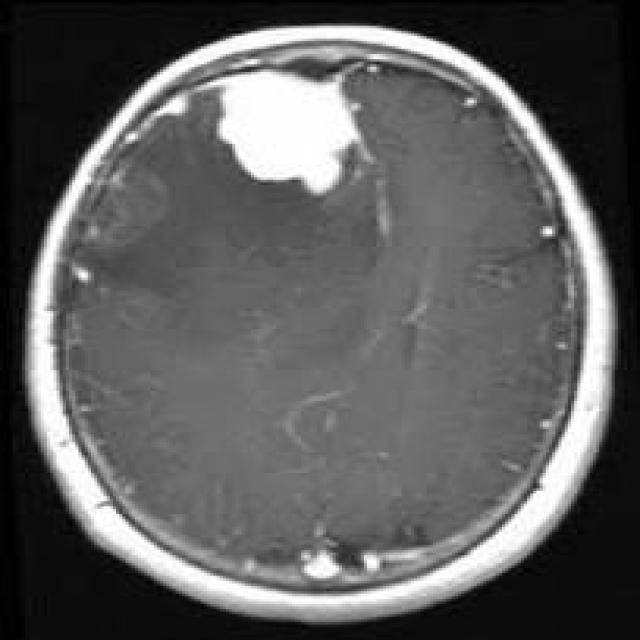Tumor: (210, 69, 364, 194)
